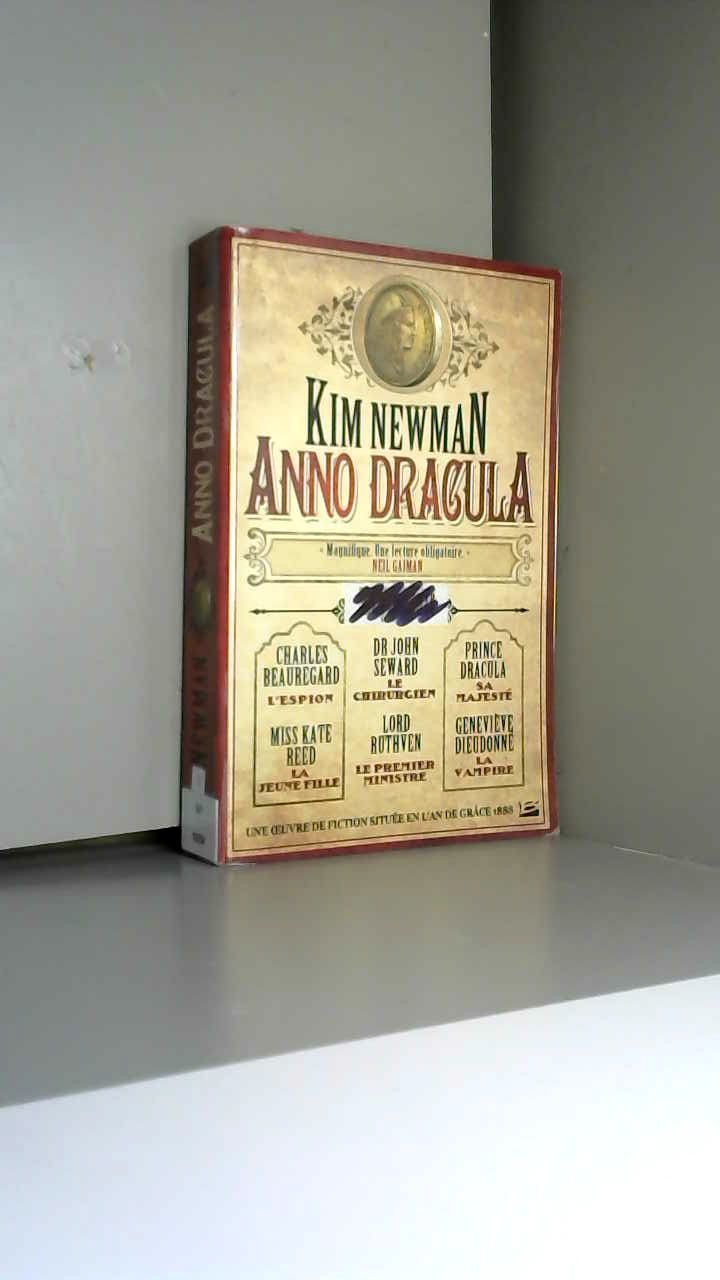book: (148, 205, 614, 888)
